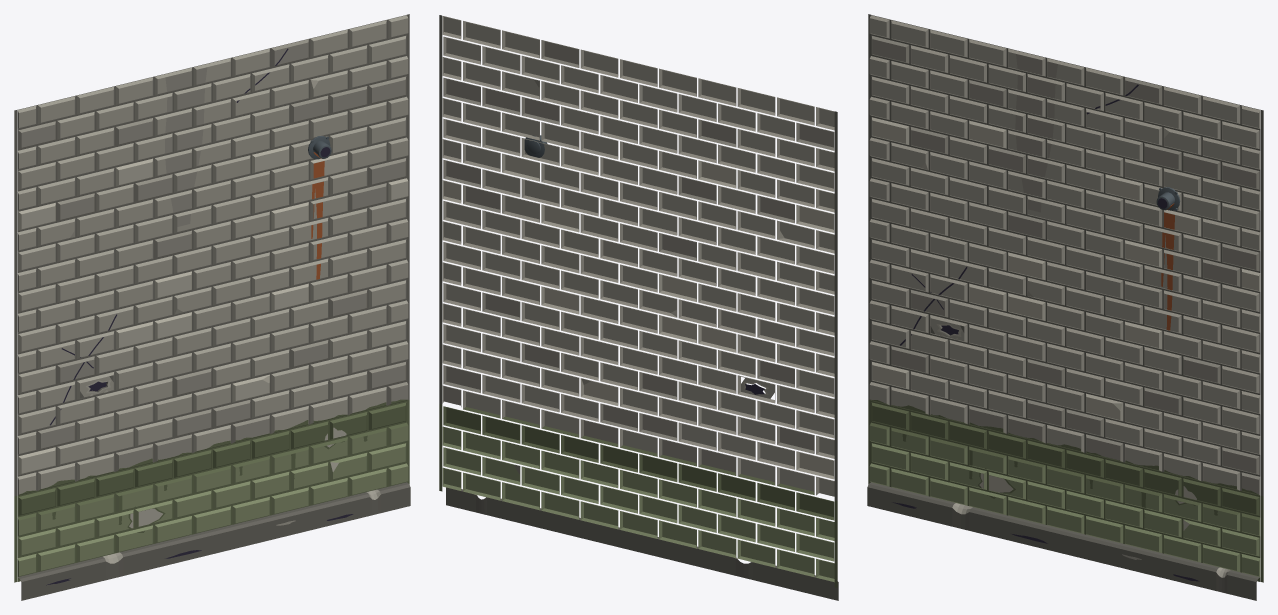
The model's file is wall_panel.glb.
The picture shows the model from 3 angles, left to right: view 1: azimuth 30°, elevation 25°; view 2: azimuth 150°, elevation 25°; view 3: azimuth 330°, elevation 25°; orthographic projection.
Parts seen in each view (by area): view 1: Wall; view 2: Wall; view 3: Wall.
Boxes of the visible parts, x1,y1,x2,y2 form: Wall: [14, 14, 410, 600]; Wall: [439, 15, 838, 600]; Wall: [867, 14, 1263, 600].
Bounding box in the file's own units: 5.08 × 6 × 0.1855.
